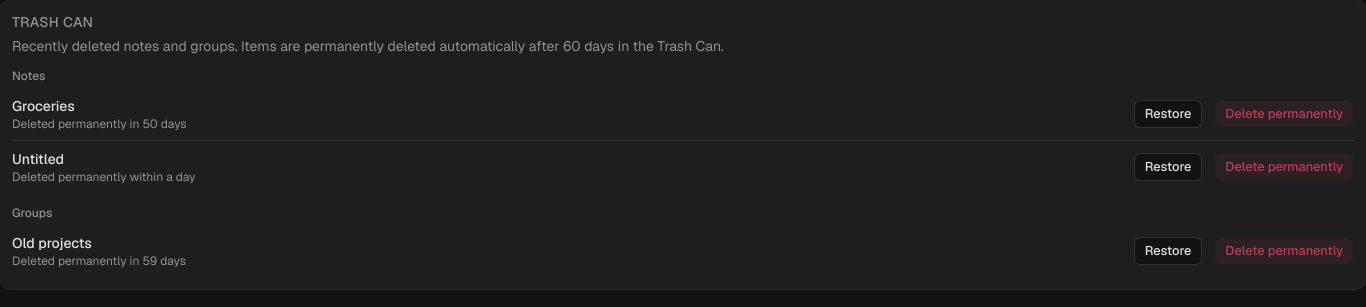
Test: TrashCan › explains when a restored item came back at the top level
Click the button with aria-label "Restore Groceries".
click(1168, 114)  # box [1134,100,1202,128]
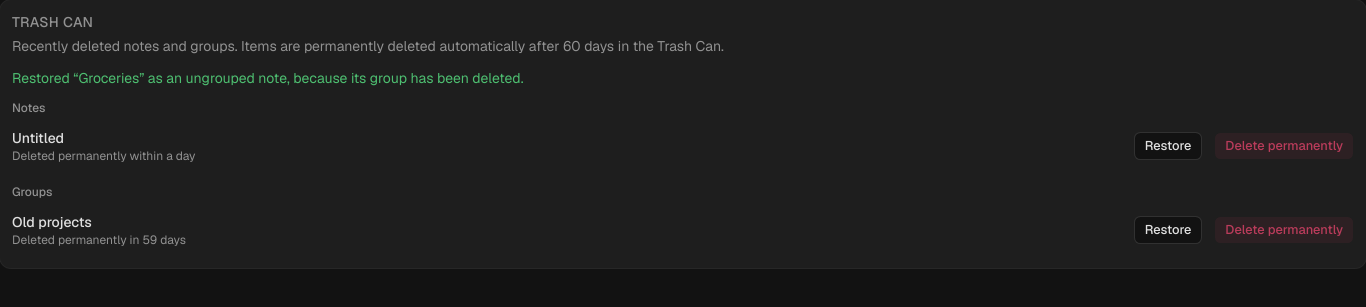
Expected: the message shows "ungrouped note, because its group has been deleted", [12,69,524,87]
